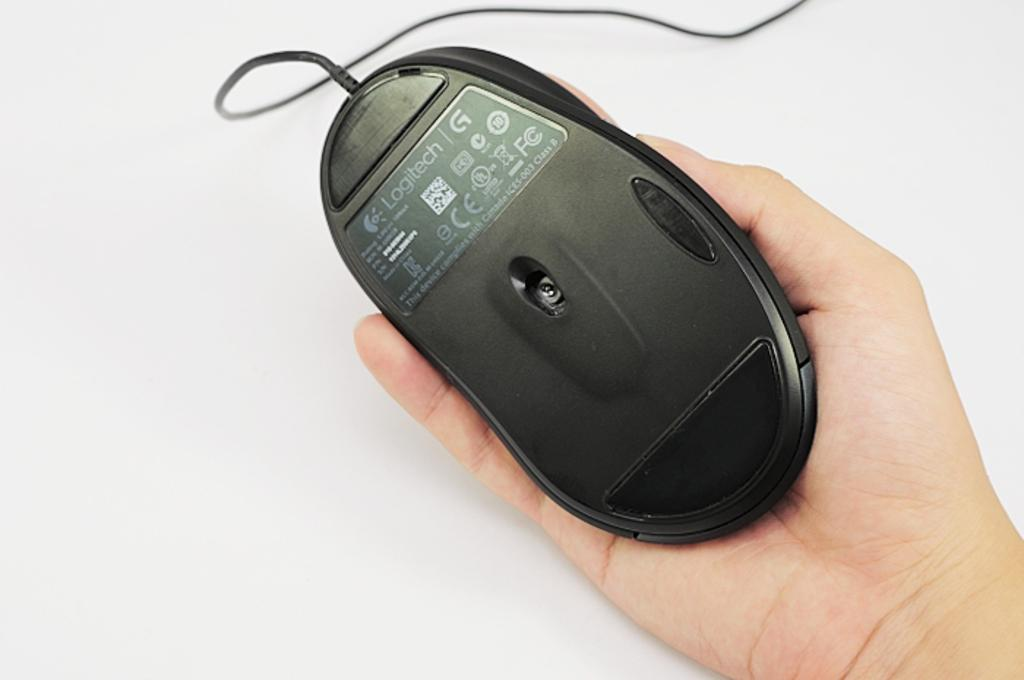Computer-mouse: (317, 41, 815, 537)
